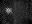person: (5, 9, 11, 14)
